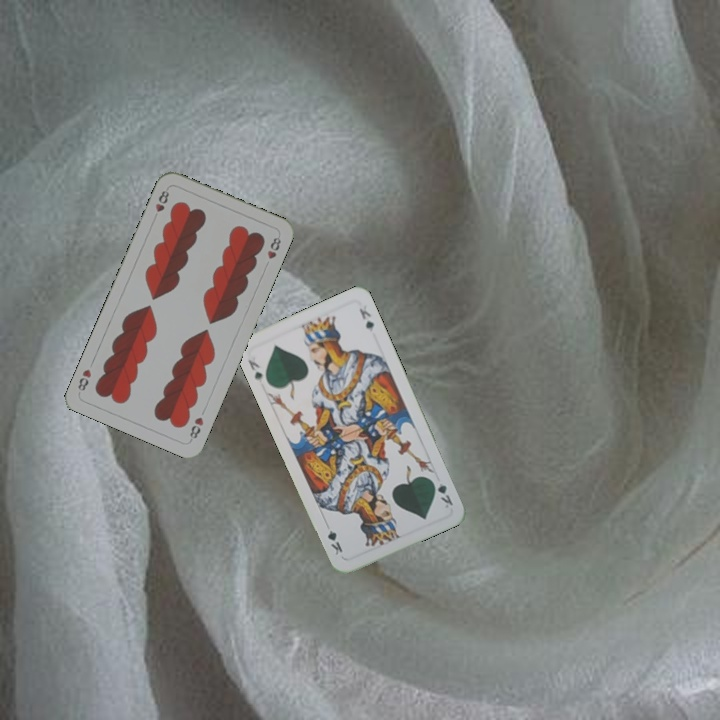GK: (427, 475, 456, 511), (244, 355, 265, 385)
H8: (186, 413, 206, 444), (151, 186, 172, 214)
